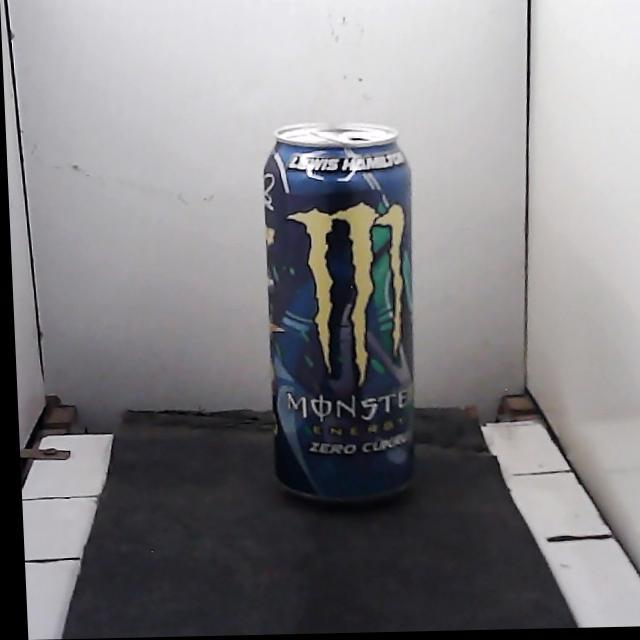metal: (264, 124, 413, 501)
